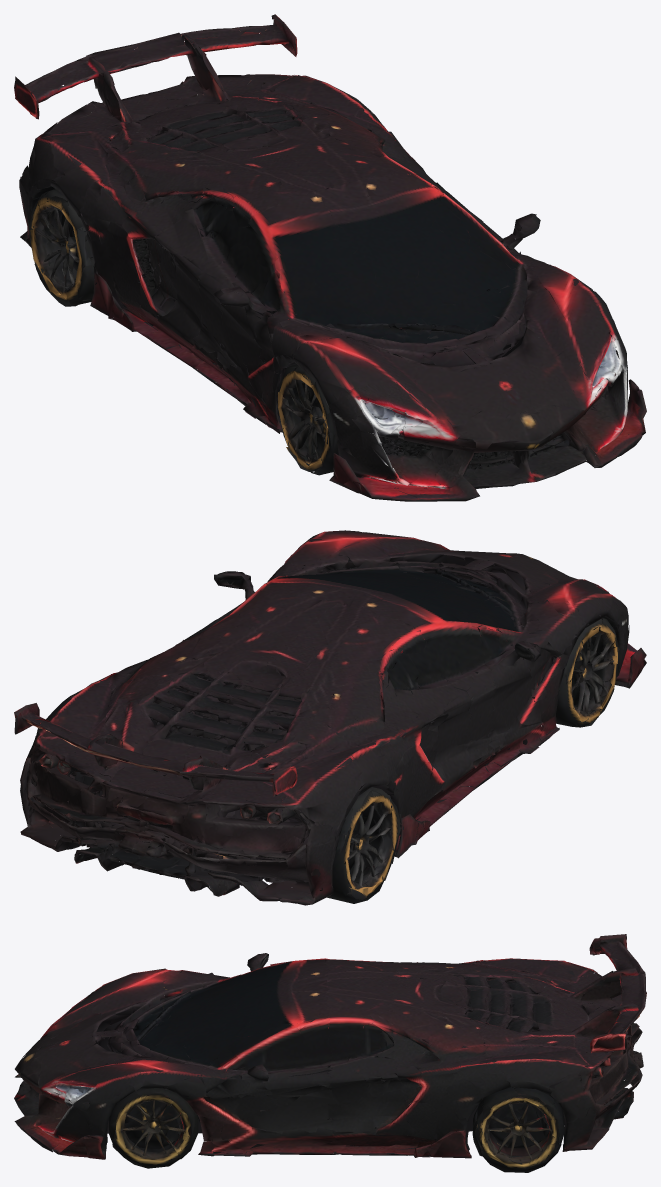
Rendered from void-chaser.glb.
3 views of the same model, one above another, from view 1: azimuth 30°, elevation 25°; view 2: azimuth 150°, elevation 25°; view 3: azimuth 270°, elevation 25° (orthographic). The views are drawn at different scales.
Parts seen in each view (by area): view 1: void-chaser; view 2: void-chaser; view 3: void-chaser.
Boxes of the visible parts, bbox=[...] form: void-chaser: bbox=[14, 14, 646, 501]; void-chaser: bbox=[14, 530, 646, 905]; void-chaser: bbox=[14, 934, 646, 1172].
Size of the model in its own units: 2.16 by 1.09 by 4.71.
Materials: 1 (1 with a texture image).
